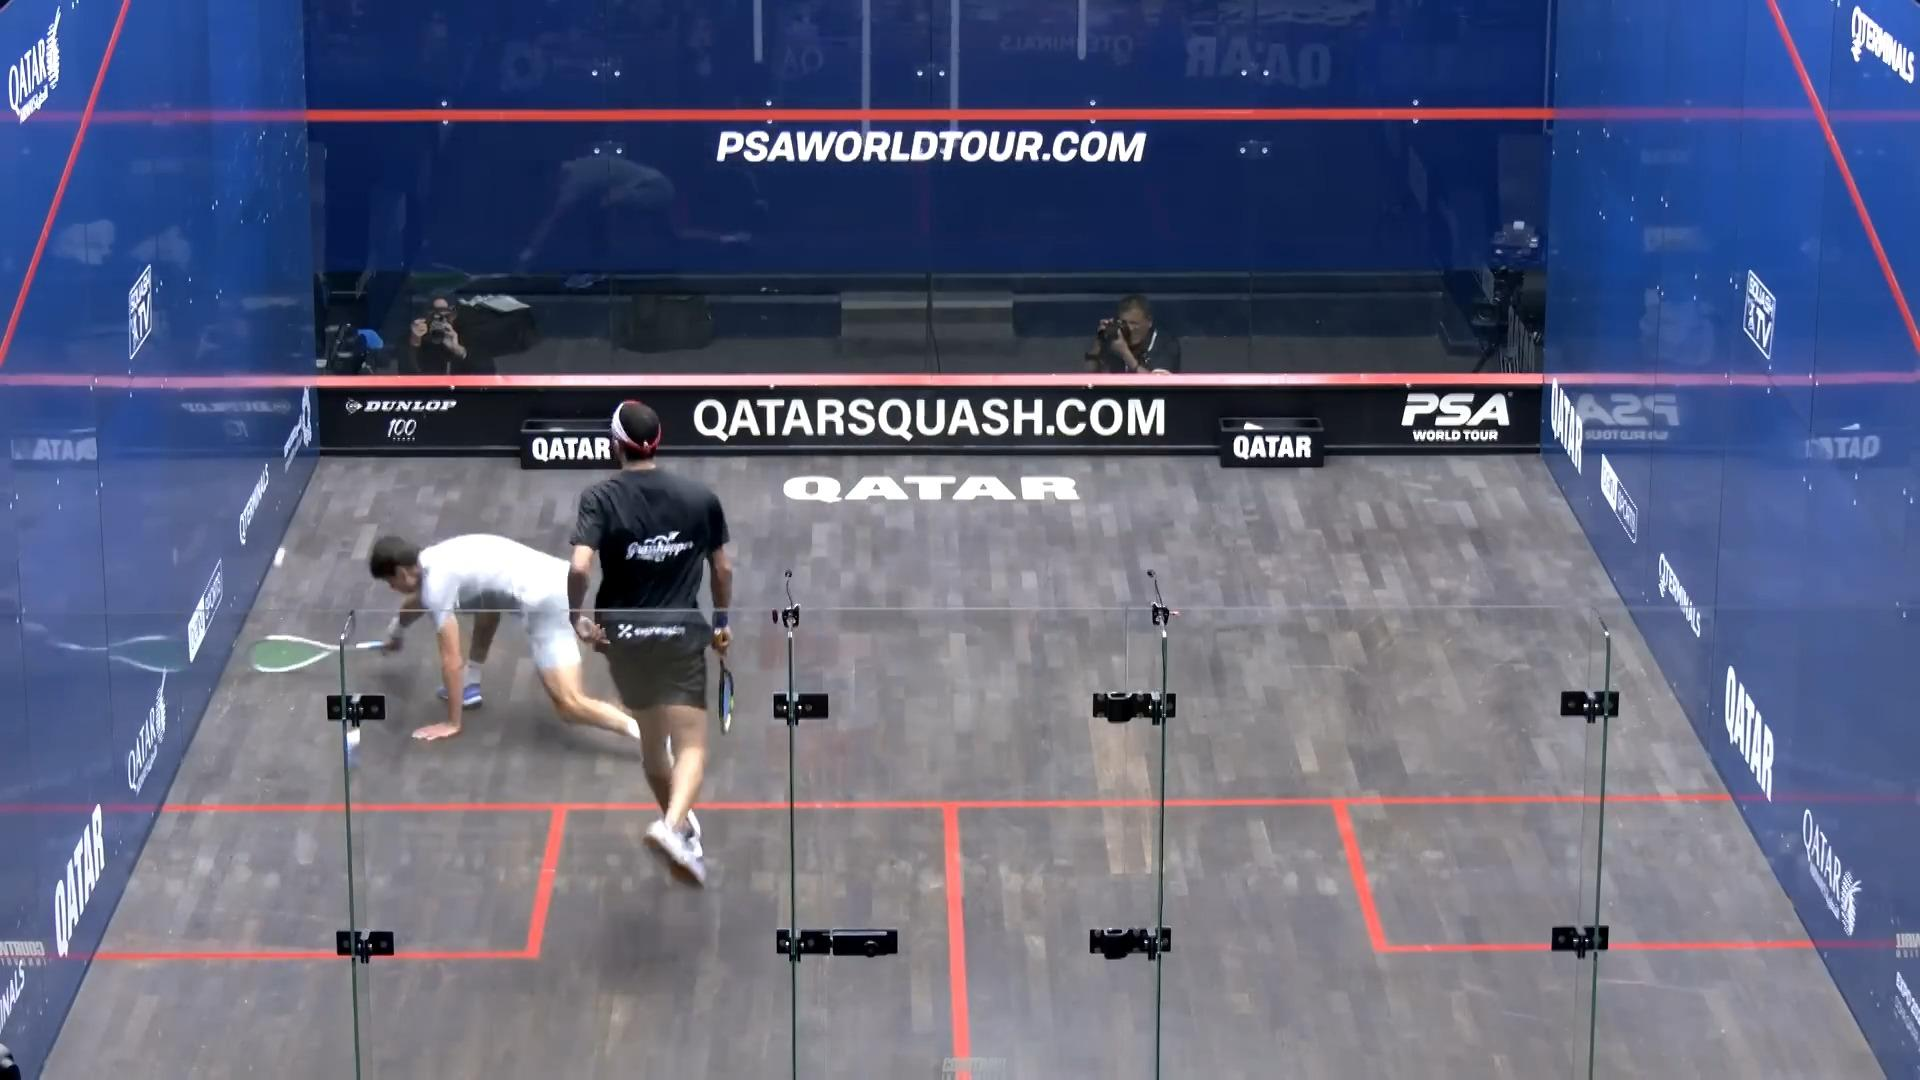Racket: (244, 624, 396, 679), (707, 637, 745, 741)
